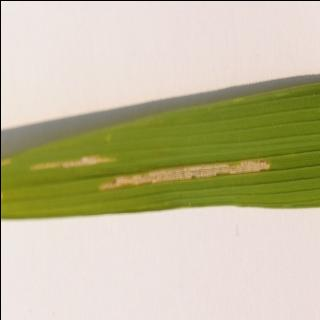Hawar-Daun: (97, 153, 270, 197), (25, 146, 118, 178), (0, 152, 12, 178)
